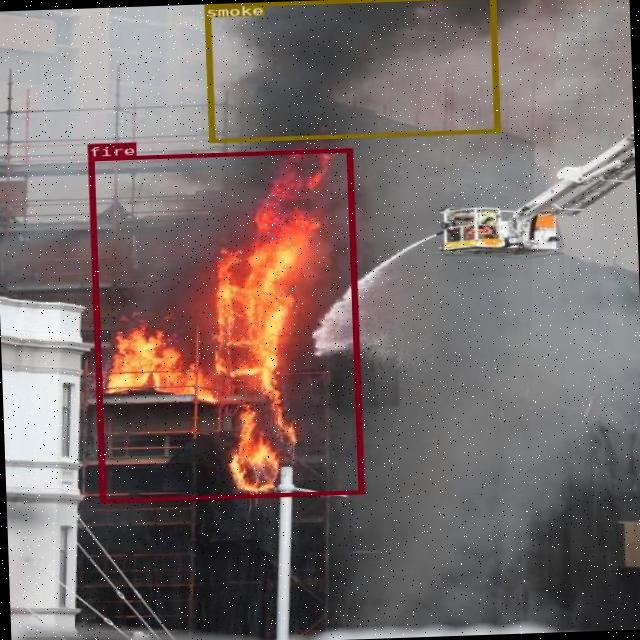fire: (87, 147, 363, 502)
smoke: (203, 0, 498, 142)
